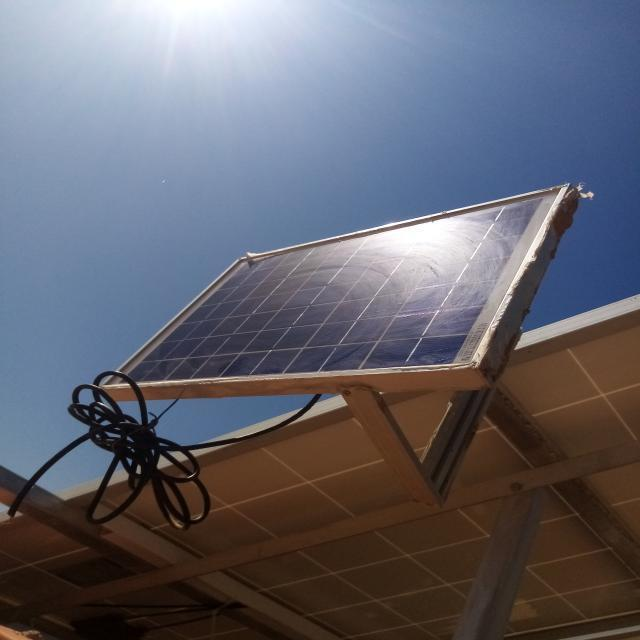Normal Solar Panel: (97, 183, 569, 386)
